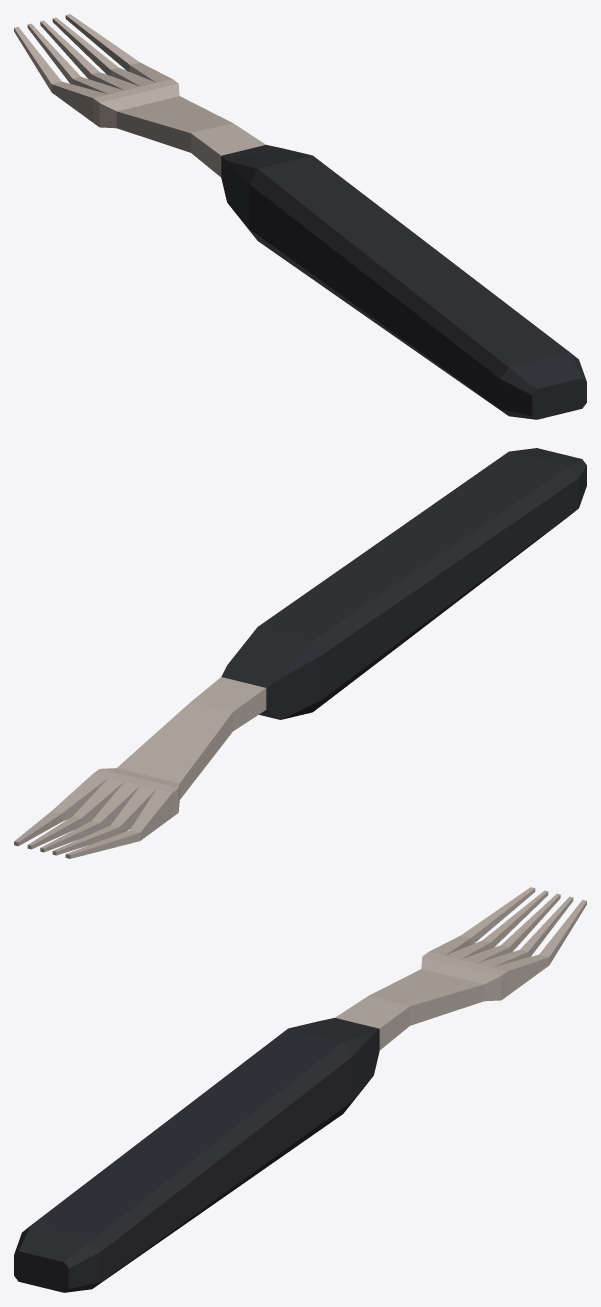
Rendered from SM_Fork.glb.
3 views of the same model, one above another, from view 1: azimuth 30°, elevation 25°; view 2: azimuth 150°, elevation 25°; view 3: azimuth 330°, elevation 25° (orthographic).
Visible parts, largest first — view 1: SM_Fork; view 2: SM_Fork; view 3: SM_Fork.
Boxes of the visible parts, x1=… form: SM_Fork: x1=14, y1=14, x2=586, y2=419; SM_Fork: x1=14, y1=448, x2=586, y2=858; SM_Fork: x1=14, y1=887, x2=586, y2=1292.
Size of the model in its own units: 0.0179 by 0.0139 by 0.1813.
Materials: 1 (1 with a texture image).
